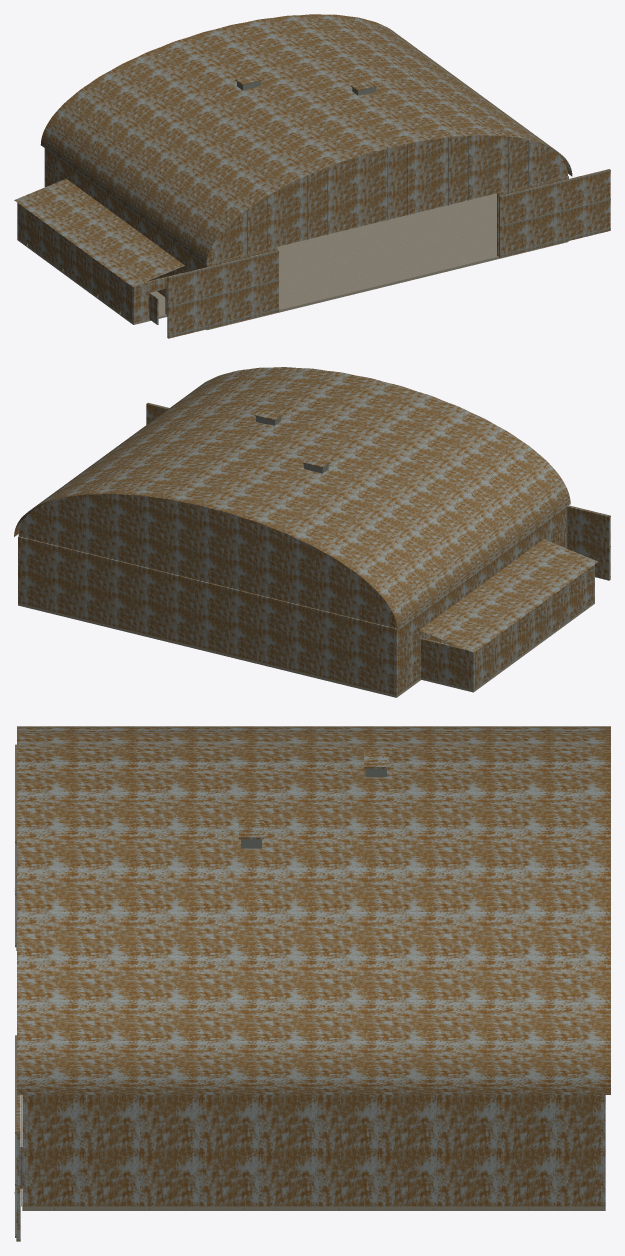
File: hangar_large.glb
3 views of the same model, one above another, from view 1: azimuth 30°, elevation 25°; view 2: azimuth 150°, elevation 25°; view 3: azimuth 270°, elevation 25° (orthographic). The views are drawn at different scales.
Visible parts, largest first — view 1: Roof_arched_separate, Front_arch_over_opening, Floor_concrete_walkable, Annex_roof_separate, Sliding_door_right_OPEN_separate, Sliding_door_left_OPEN_separate, Annex_side_wall, Wall_left_separate, Front_sheet_seams_and_trims, Annex_front_left_pier, Annex_floor_walkable; view 2: Roof_arched_separate, Wall_rear_separate, Rear_arch, Annex_roof_separate, Annex_side_wall, Wall_left_separate, Sliding_door_left_OPEN_separate, Annex_rear_wall, Floor_concrete_walkable, Annex_floor_walkable; view 3: Roof_arched_separate, Wall_right_separate, Floor_concrete_walkable, Sliding_door_right_OPEN_separate.
Boxes of the visible parts, box(x1,y1,x2,y2) form: Roof_arched_separate: box(40, 14, 572, 265); Front_arch_over_opening: box(206, 135, 567, 263); Floor_concrete_walkable: box(206, 193, 568, 329); Annex_roof_separate: box(14, 179, 184, 286); Sliding_door_right_OPEN_separate: box(499, 169, 610, 257); Sliding_door_left_OPEN_separate: box(167, 250, 278, 338); Annex_side_wall: box(19, 204, 135, 322); Wall_left_separate: box(46, 149, 209, 296); Front_sheet_seams_and_trims: box(206, 136, 568, 266); Annex_front_left_pier: box(132, 281, 150, 322); Annex_floor_walkable: box(17, 238, 167, 324); Roof_arched_separate: box(14, 367, 570, 630); Wall_rear_separate: box(18, 537, 397, 695); Rear_arch: box(18, 493, 397, 628); Annex_roof_separate: box(419, 539, 598, 652); Annex_side_wall: box(471, 565, 593, 690); Wall_left_separate: box(394, 507, 566, 694); Sliding_door_left_OPEN_separate: box(567, 505, 610, 580); Annex_rear_wall: box(421, 638, 474, 689); Floor_concrete_walkable: box(18, 603, 420, 697); Annex_floor_walkable: box(421, 602, 594, 692); Roof_arched_separate: box(17, 726, 610, 1094); Wall_right_separate: box(22, 1095, 605, 1206); Floor_concrete_walkable: box(22, 1206, 605, 1210); Sliding_door_right_OPEN_separate: box(16, 1035, 20, 1241).
Bounding box in the file's own units: 45.29 × 13.71 × 28.64.
Materials: 5 (3 with a texture image).
